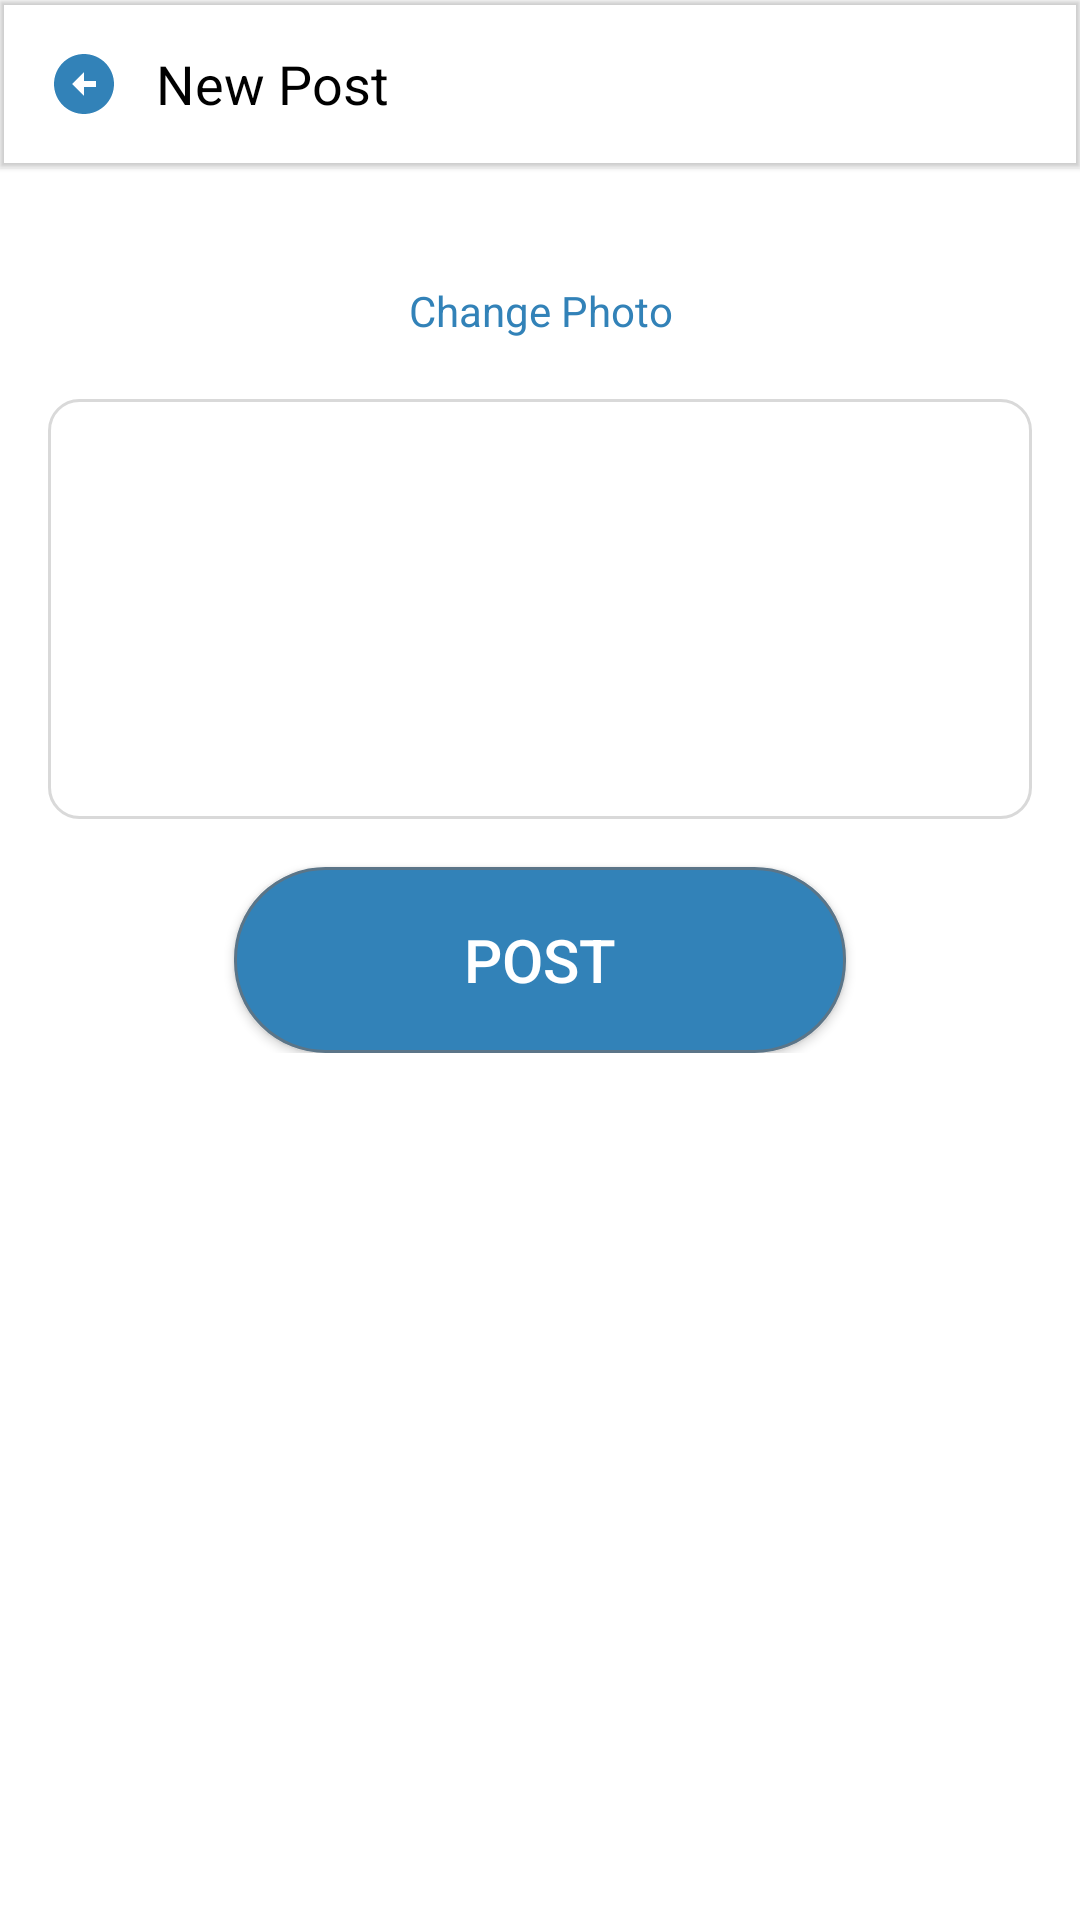

Screen size 1080*1920. Icon name, then its box in pixels as bbox=[x1, y1, x2, y2]:
arrow circle left: bbox=[54, 54, 114, 114]
